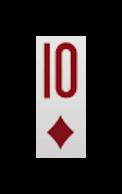10D: (40, 39, 81, 152)
